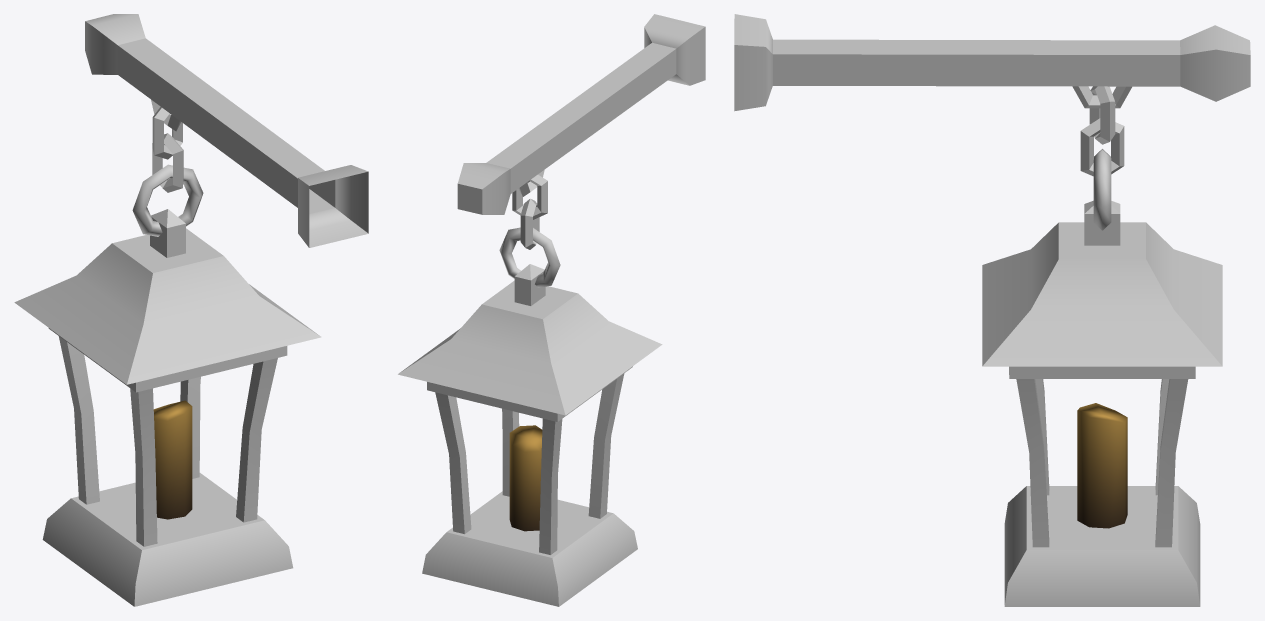
The model's file is SM_Lantern_03_A.fbx.
The picture shows the model from 3 angles, left to right: view 1: azimuth 30°, elevation 25°; view 2: azimuth 150°, elevation 25°; view 3: azimuth 270°, elevation 25°; orthographic projection. The views are drawn at different scales.
Parts seen in each view (by area): view 1: SM_Lantern_03_A_Mesh; view 2: SM_Lantern_03_A_Mesh; view 3: SM_Lantern_03_A_Mesh.
Boxes of the visible parts, bbox=[...] form: SM_Lantern_03_A_Mesh: bbox=[14, 14, 368, 606]; SM_Lantern_03_A_Mesh: bbox=[398, 14, 705, 606]; SM_Lantern_03_A_Mesh: bbox=[734, 14, 1250, 606].
Size of what is drawn, in the model's own units: 26.62 by 65.45 by 57.21.
